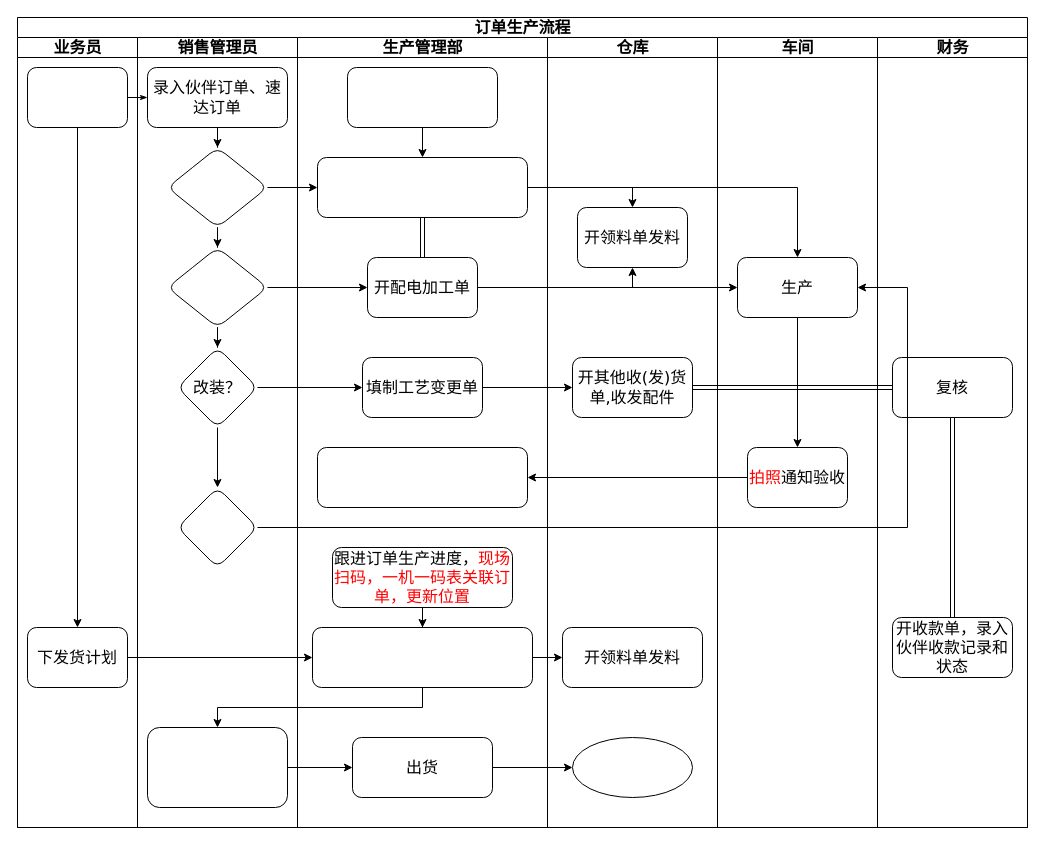
Some shapes in this 1045 by 845 pixel diagram are drawn without their labels. The shapes that lost their labels are listed below. From the top down, each one's centre as x and y in pixels, then its label:
(77,97): 发合同、订金截图
(422,97): 确认标配光机配电排产任务
(217,187): 非标排产光机？
(422,187): 开光机加工单， 录入伙伴一机一码表，关联订单，从伙伴打印贴纸 贴光机底座
(217,287): 非标排产配电？
(422,477): 开光机配电验收单、送料估价入库单，现场验收， 扫码录入验收日期
(217,527): 装送料？
(422,657): 现场检查要出整机配置，开整机加工单， 一机一码表录入出机日期 ，安排清理打包
(217,767): 开销售单，伙伴录入发货记录， 选择订单已关联的、要出机的机器码
(632,767): 结束
